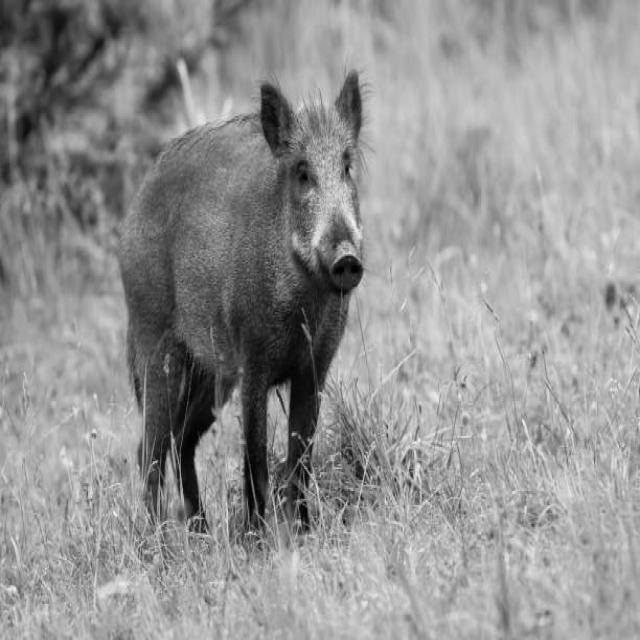boar: (119, 69, 364, 531)
